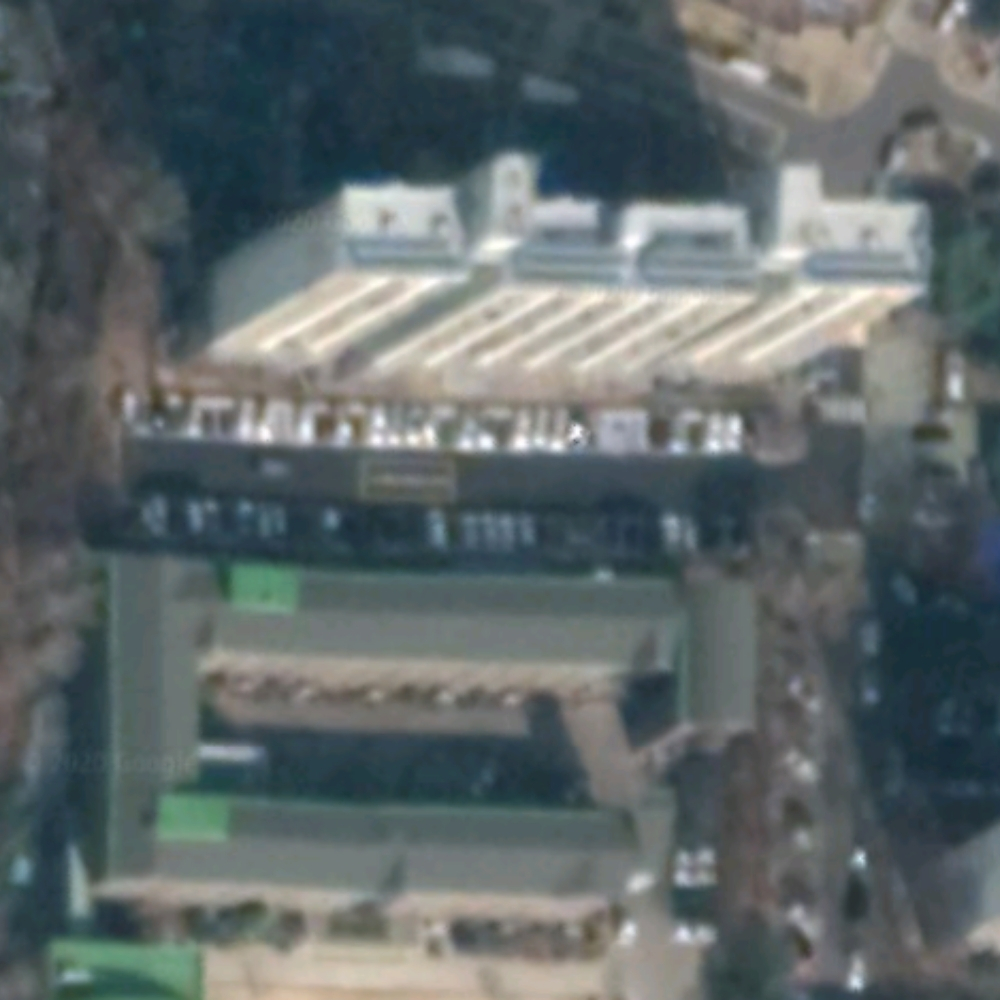parking: (120, 395, 750, 550)
